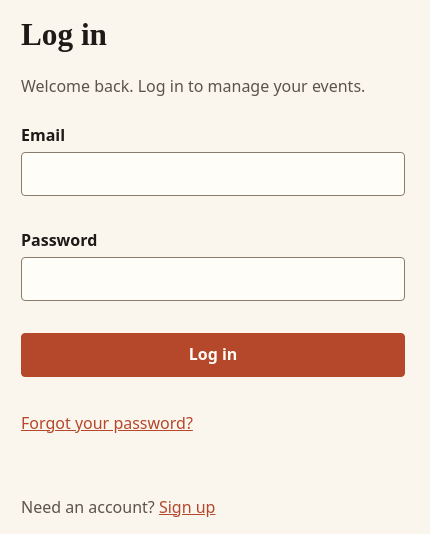
Scenario: goes back to the password form from the code step
In the field labelled "Email": coordinates (213, 174) [21,152,405,196], type "a@example.com"
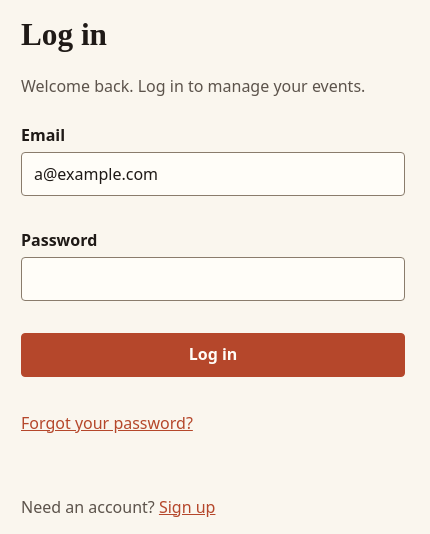
In the password field labelled "Password": coordinates (213, 279) [21,257,405,301], type "secret-pass-1"
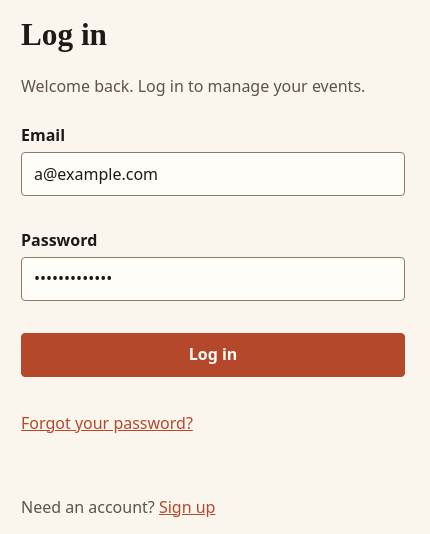
Submit the form "Log in", box [21,123,405,377]
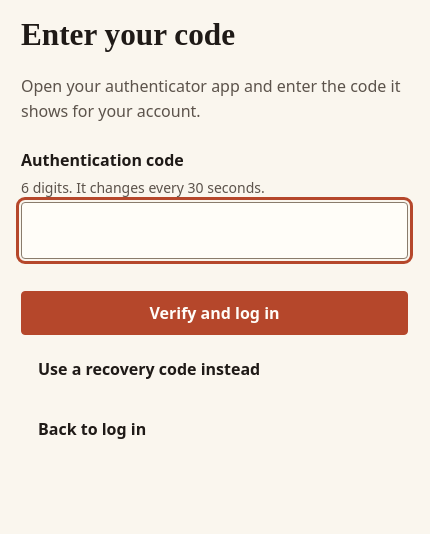
Now the heading "Enter your code" is shown, box [21,17,235,52]
Click the button "Back to log in": coordinates (92, 429) [21,407,163,451]
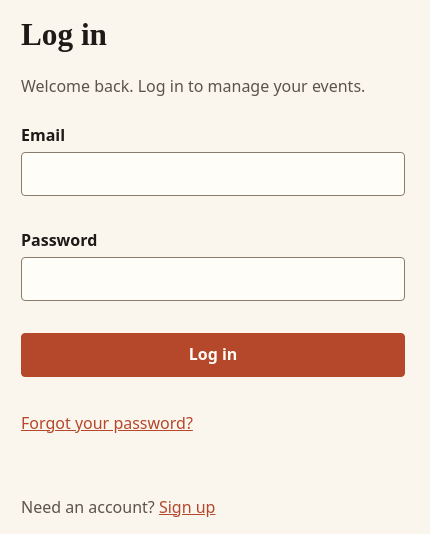
Now the heading "Log in" is shown, box [21,17,107,52]
